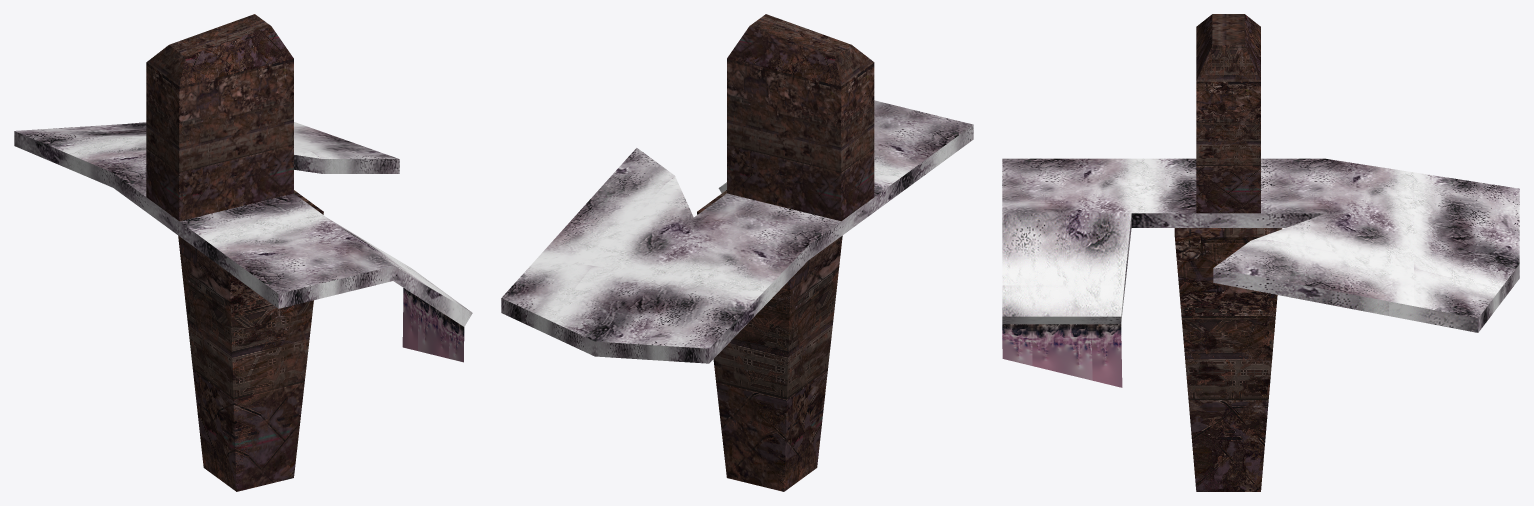
The model's file is bbdest05.FBX.
3 renders of one model, left to right at view 1: azimuth 30°, elevation 25°; view 2: azimuth 150°, elevation 25°; view 3: azimuth 270°, elevation 25°, orthographic. The views are drawn at different scales.
Parts seen in each view (by area): view 1: bbdest05, roof01, dmg5__2; view 2: roof01, bbdest05; view 3: roof01, bbdest05, dmg5__2.
Boxes of the visible parts, x1,y1,x2,y2 form: bbdest05: [146, 14, 323, 491]; roof01: [14, 122, 472, 326]; dmg5__2: [402, 288, 464, 362]; roof01: [501, 100, 973, 363]; bbdest05: [697, 14, 874, 491]; roof01: [1002, 158, 1519, 332]; bbdest05: [1174, 14, 1282, 491]; dmg5__2: [1002, 324, 1122, 387].
Bounding box in the file's own units: 32 × 64 × 60.
